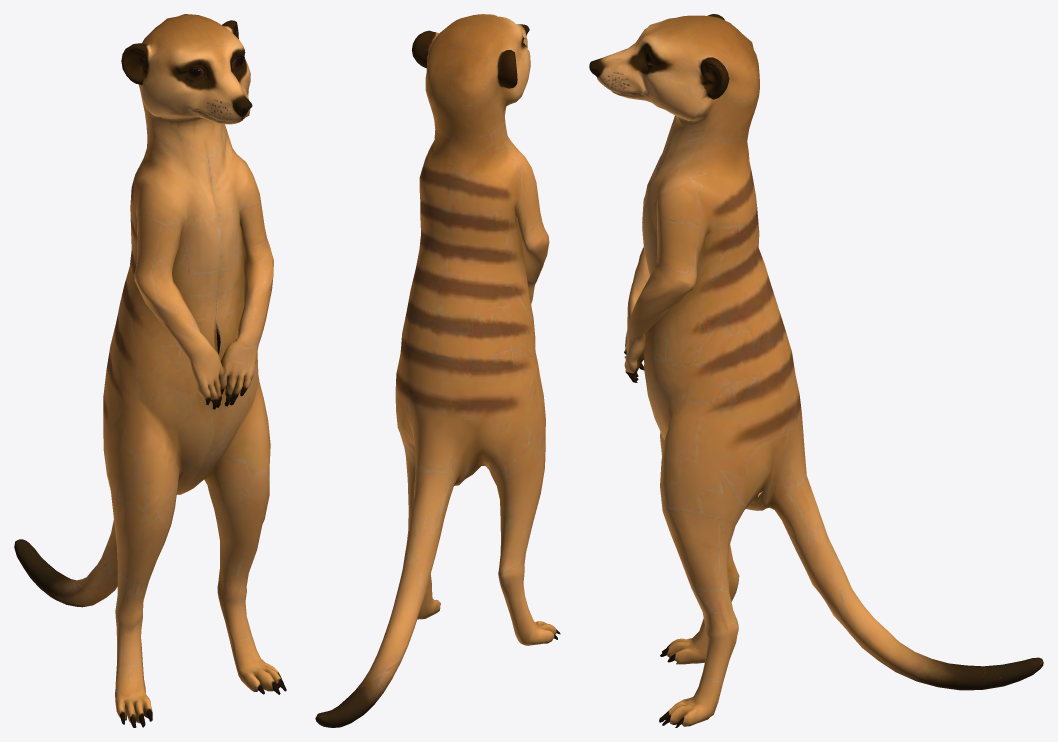
File: meerkat-sou-stand.glb
3 views of the same model, side by side, from view 1: azimuth 30°, elevation 25°; view 2: azimuth 150°, elevation 25°; view 3: azimuth 270°, elevation 25° (orthographic). The views are drawn at different scales.
Visible parts, largest first — view 1: geometry_0; view 2: geometry_0; view 3: geometry_0.
Part boxes in pixels (left/top/right/bottom): geometry_0: left=14, top=14, right=286, bottom=727; geometry_0: left=315, top=14, right=560, bottom=727; geometry_0: left=589, top=14, right=1043, bottom=727.
Size of the model in its own units: 0.2378 by 0.9517 by 0.5845.
Materials: 1 (1 with a texture image).
